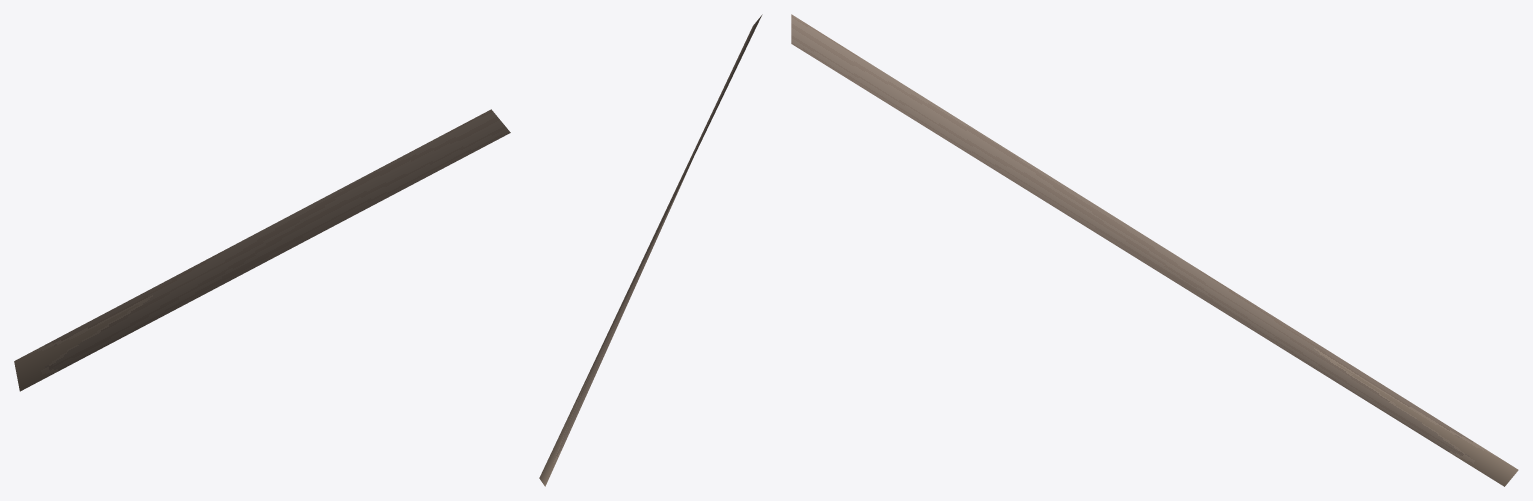
The model's file is kd_stage_135ded_4_52_bounded_piece_6.glb.
The picture shows the model from 3 angles, left to right: view 1: azimuth 30°, elevation 25°; view 2: azimuth 150°, elevation 25°; view 3: azimuth 270°, elevation 25°; orthographic projection. The views are drawn at different scales.
Visible parts, largest first — view 1: kd_stage_135ded_4_52_bounded_piece_6; view 2: kd_stage_135ded_4_52_bounded_piece_6; view 3: kd_stage_135ded_4_52_bounded_piece_6.
Boxes of the visible parts, x1,y1,x2,y2 form: kd_stage_135ded_4_52_bounded_piece_6: [14, 109, 510, 391]; kd_stage_135ded_4_52_bounded_piece_6: [539, 14, 762, 486]; kd_stage_135ded_4_52_bounded_piece_6: [791, 14, 1518, 486].
Bounding box in the file's own units: 0.0308 × 0.4756 × 0.6534.
Materials: 1 (1 with a texture image).
